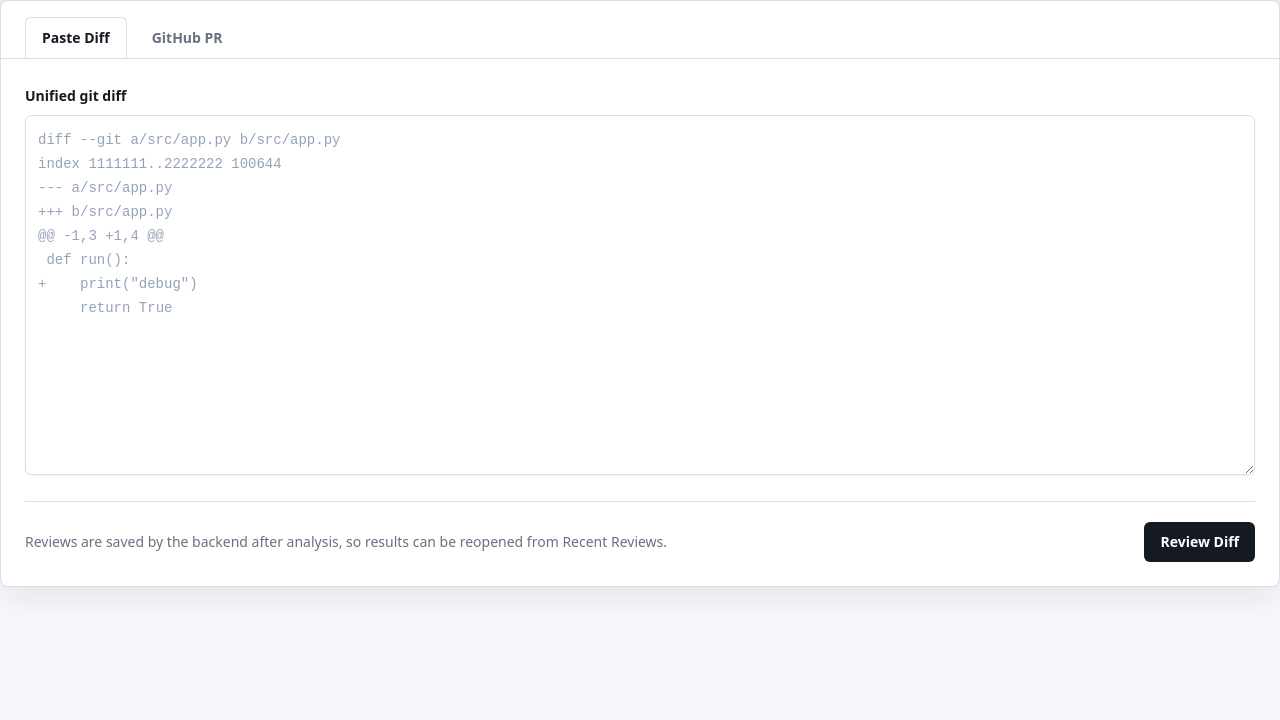
ReviewForm › shows validation for an empty pasted diff
Click the button "Review Diff".
click(1200, 542)  # box [1144,522,1255,562]
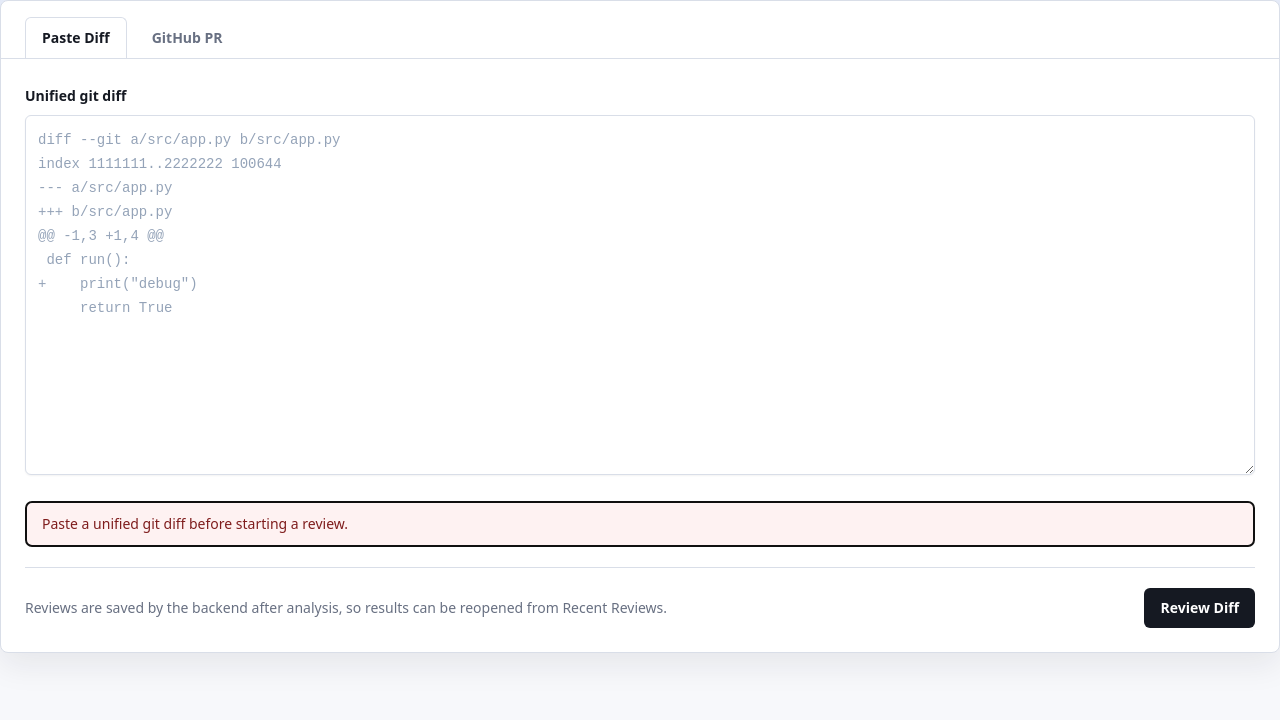
Expected: the message reads "Paste a unified git diff before starting a review.", [42,514,348,533]
